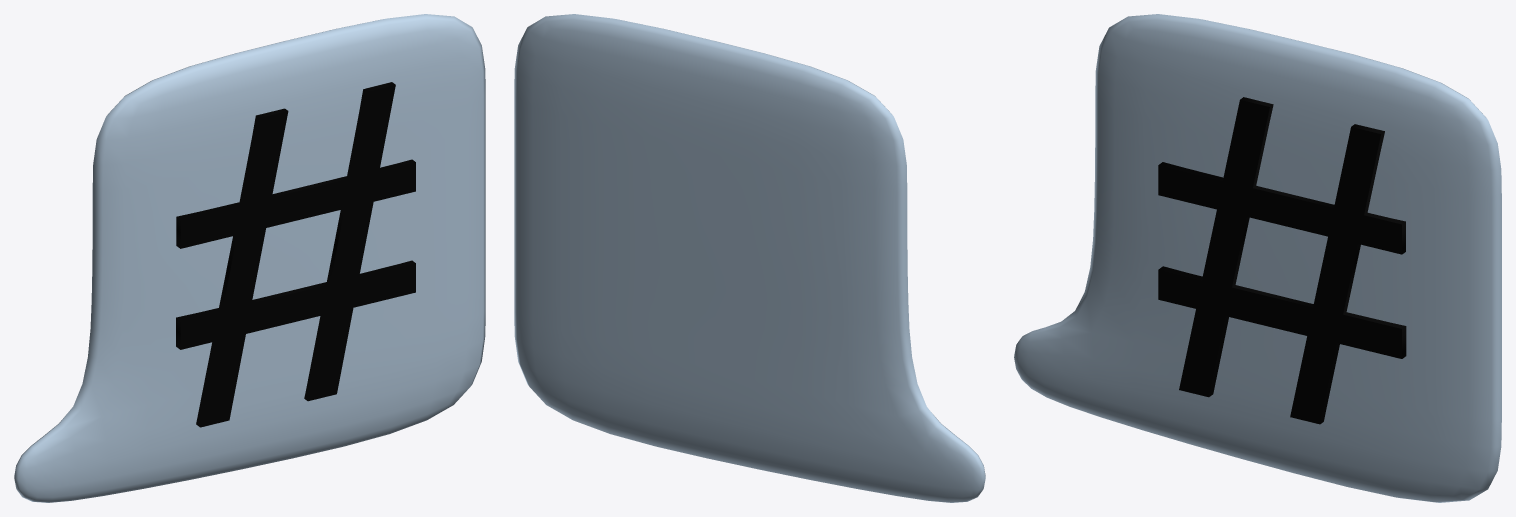
Rendered from fosh3.fbx.
3 views of the same model, side by side, from view 1: azimuth 30°, elevation 25°; view 2: azimuth 150°, elevation 25°; view 3: azimuth 330°, elevation 25° (orthographic). The views are drawn at different scales.
Visible parts, largest first — view 1: Cube, Text; view 2: Cube; view 3: Cube, Text.
Part boxes in pixels (x1,y1,x2,y2): Cube: (14, 14, 485, 502); Text: (176, 82, 415, 427); Cube: (514, 14, 985, 502); Cube: (1014, 14, 1501, 502); Text: (1158, 97, 1406, 424).
Bounding box in the file's own units: 125 × 106 × 10.83.
